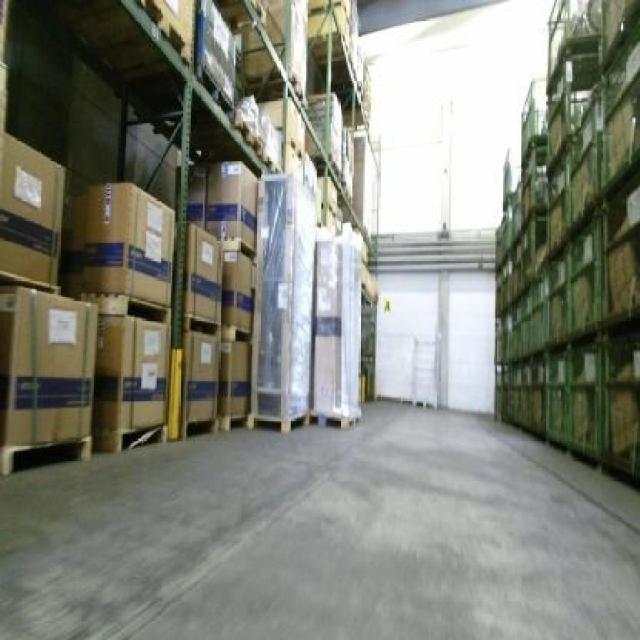floor: (0, 400, 637, 637)
pallets: (0, 285, 94, 472), (58, 182, 171, 303), (0, 131, 62, 289)
